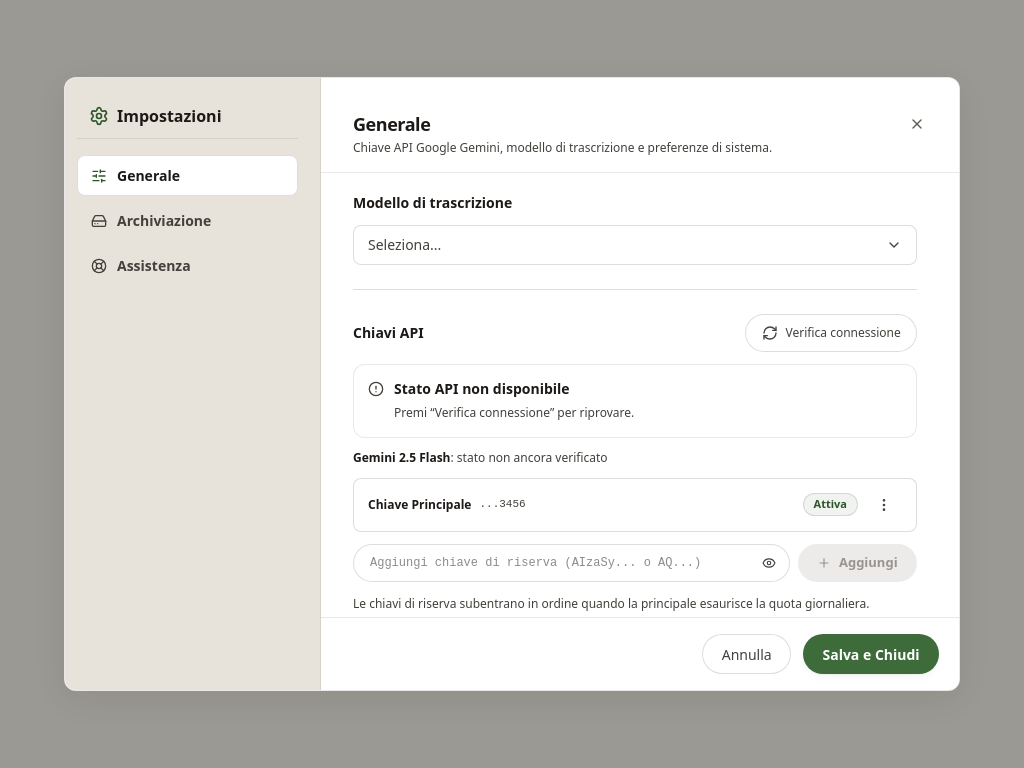
Test case: SettingsModal — session folder and cleanup › warns that cleanup also removes paused work and offers no completed-notes cleanup
What coordinates should you click on to do the following:
click the button "Archiviazione"
I would click on:
 (188, 220)
Its box is x1=77 y1=200 x2=298 y2=241.
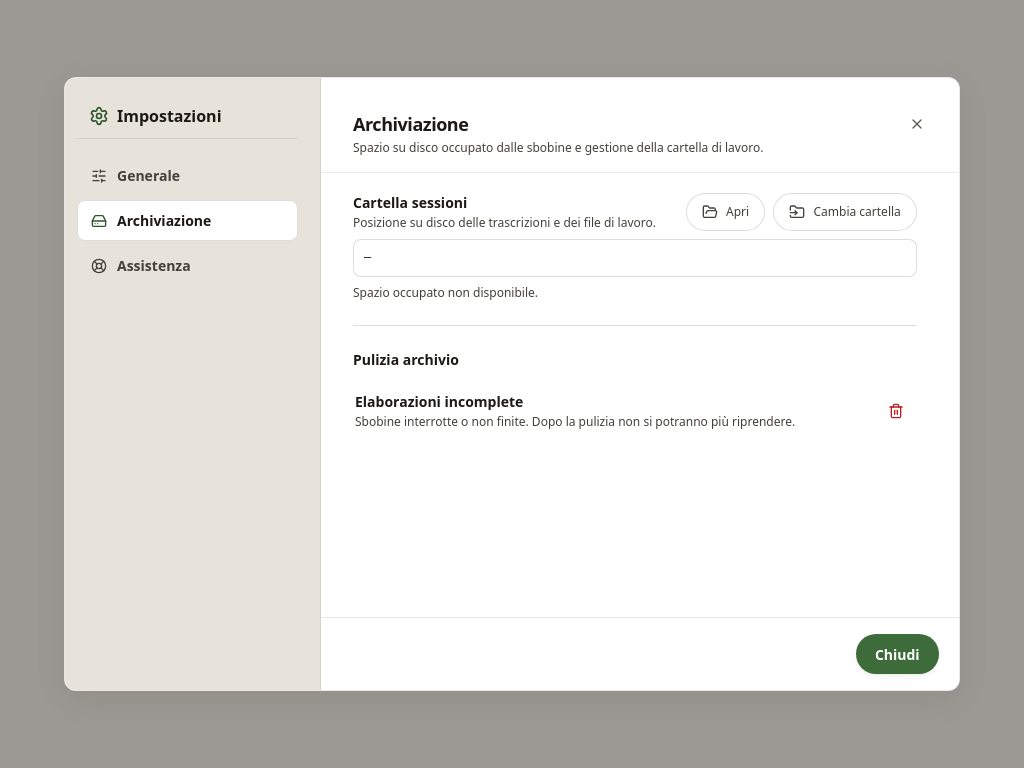
What coordinates should you click on to do the following:
click the button titled "Conta ed elimina tutte le elaborazioni incomplete"
I would click on:
 (896, 411)
Its box is x1=877 y1=392 x2=915 y2=430.
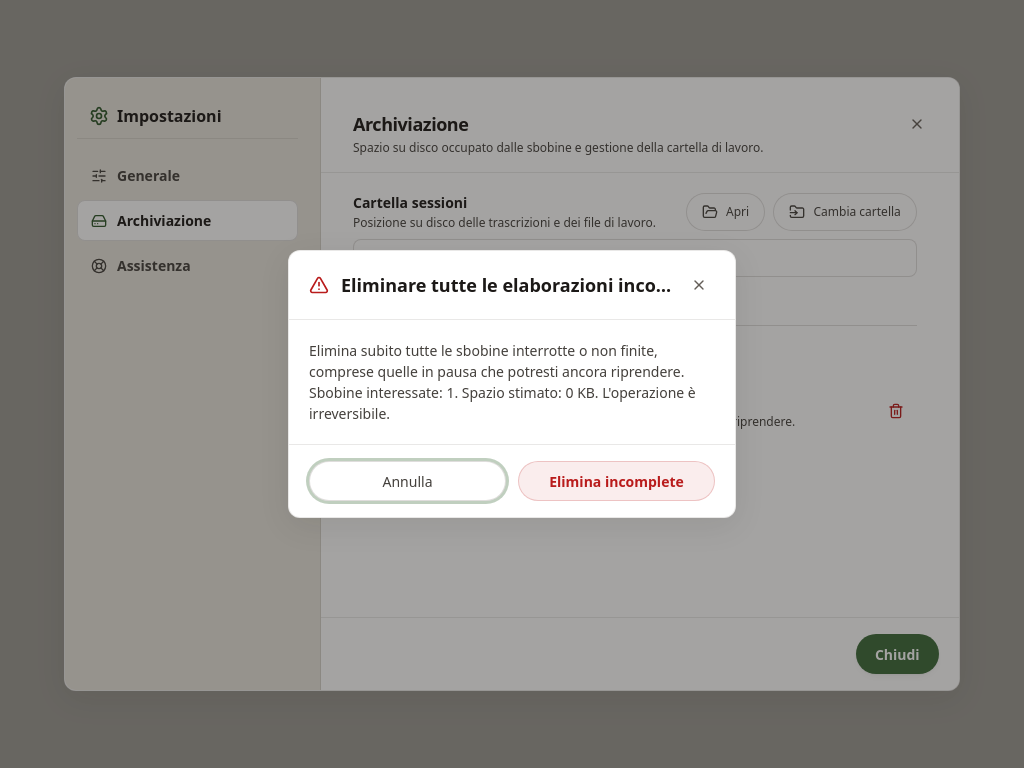
expect the text "comprese quelle in pausa che potresti ancora riprendere" is shown: met, box x1=309 y1=341 x2=696 y2=423
